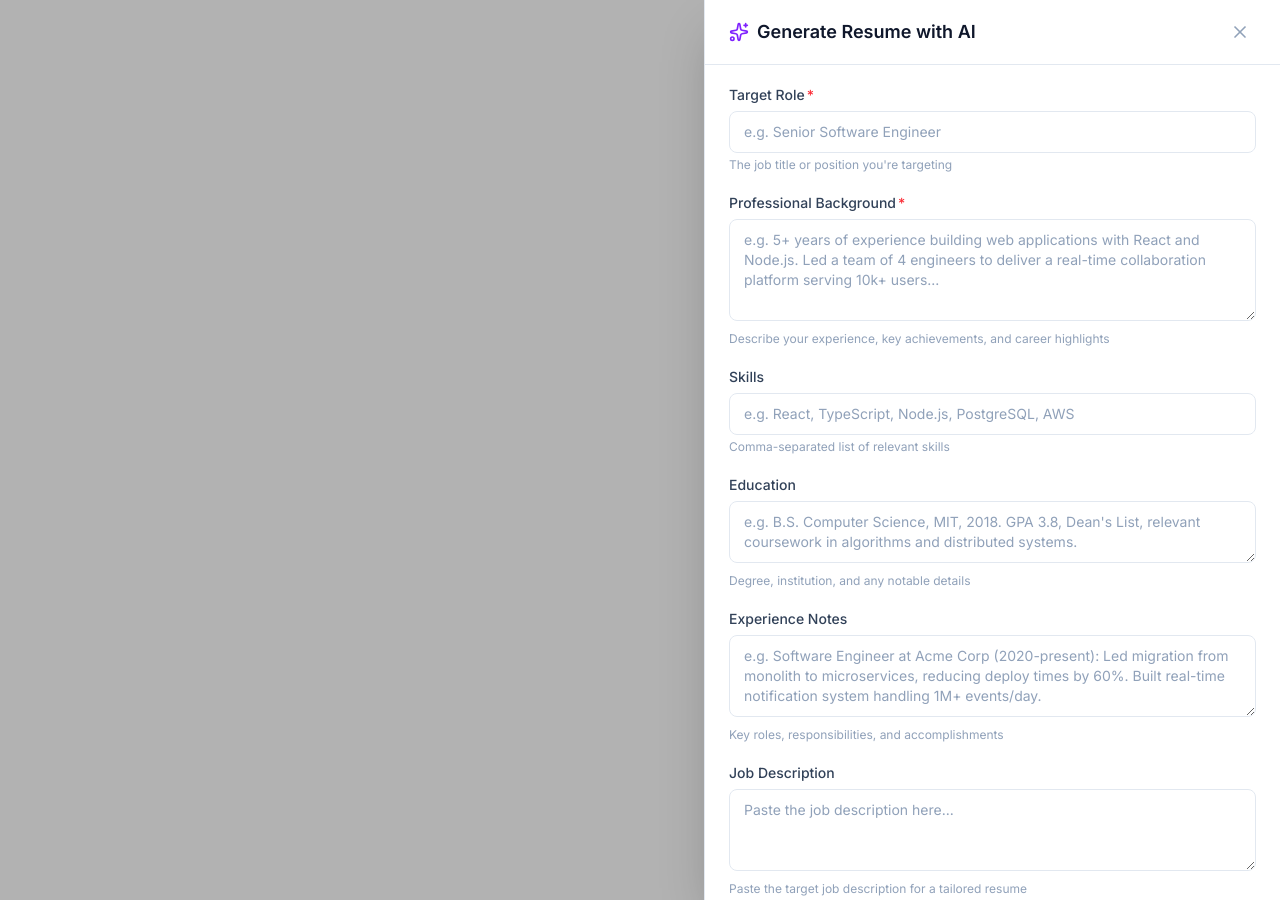
Test: Existing mode — confirmation dialog › opens confirmation when clicking Apply to Builder
This screenshot has width=1280, height=900.
Type "Engineer" into the field labelled "Target Role*" at x=992, y=132, box [729,111,1256,153]
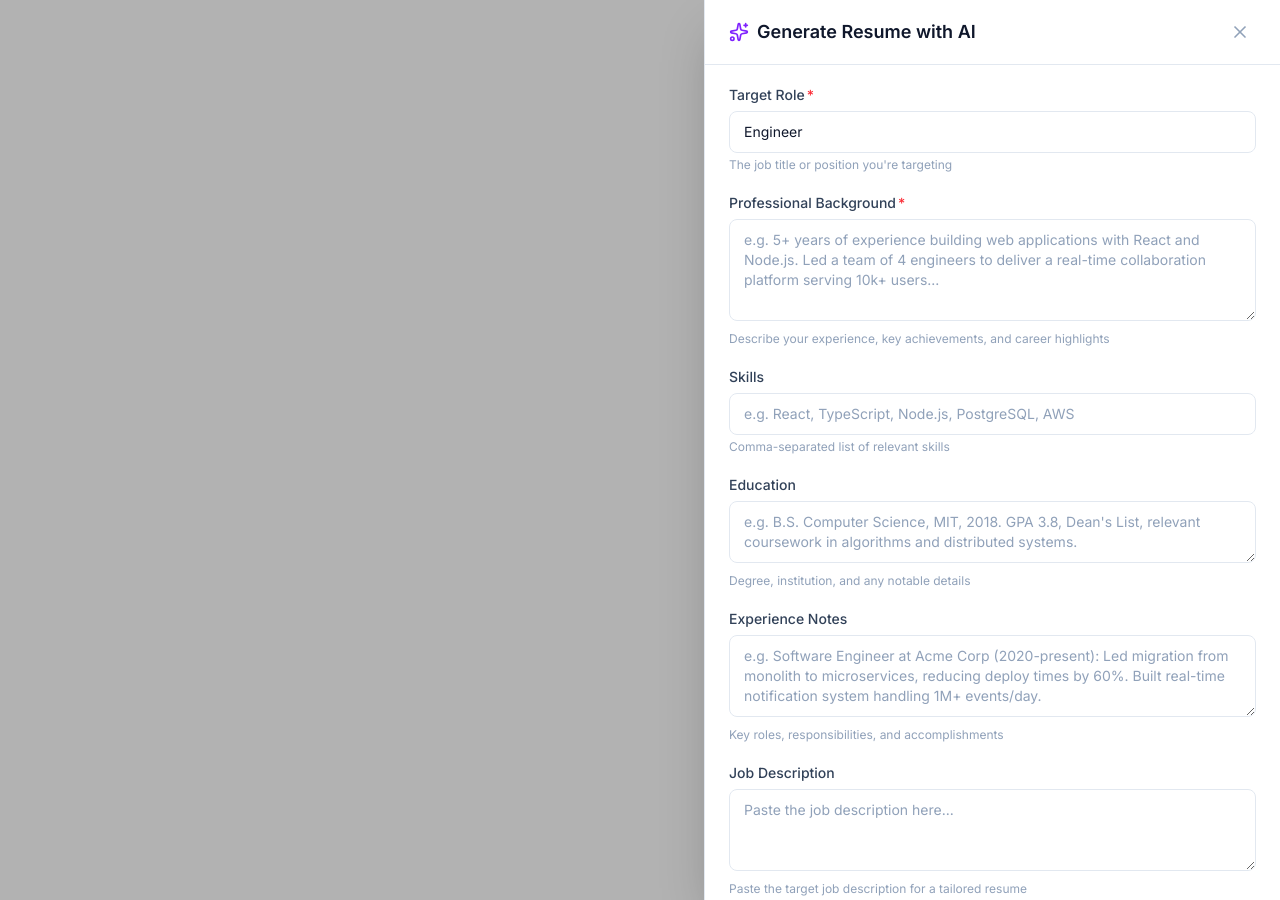
Replace the text in the text box labelled "Professional Background*" with "Experience" at x=992, y=270, box [729,219,1256,321]
(page scrolled)
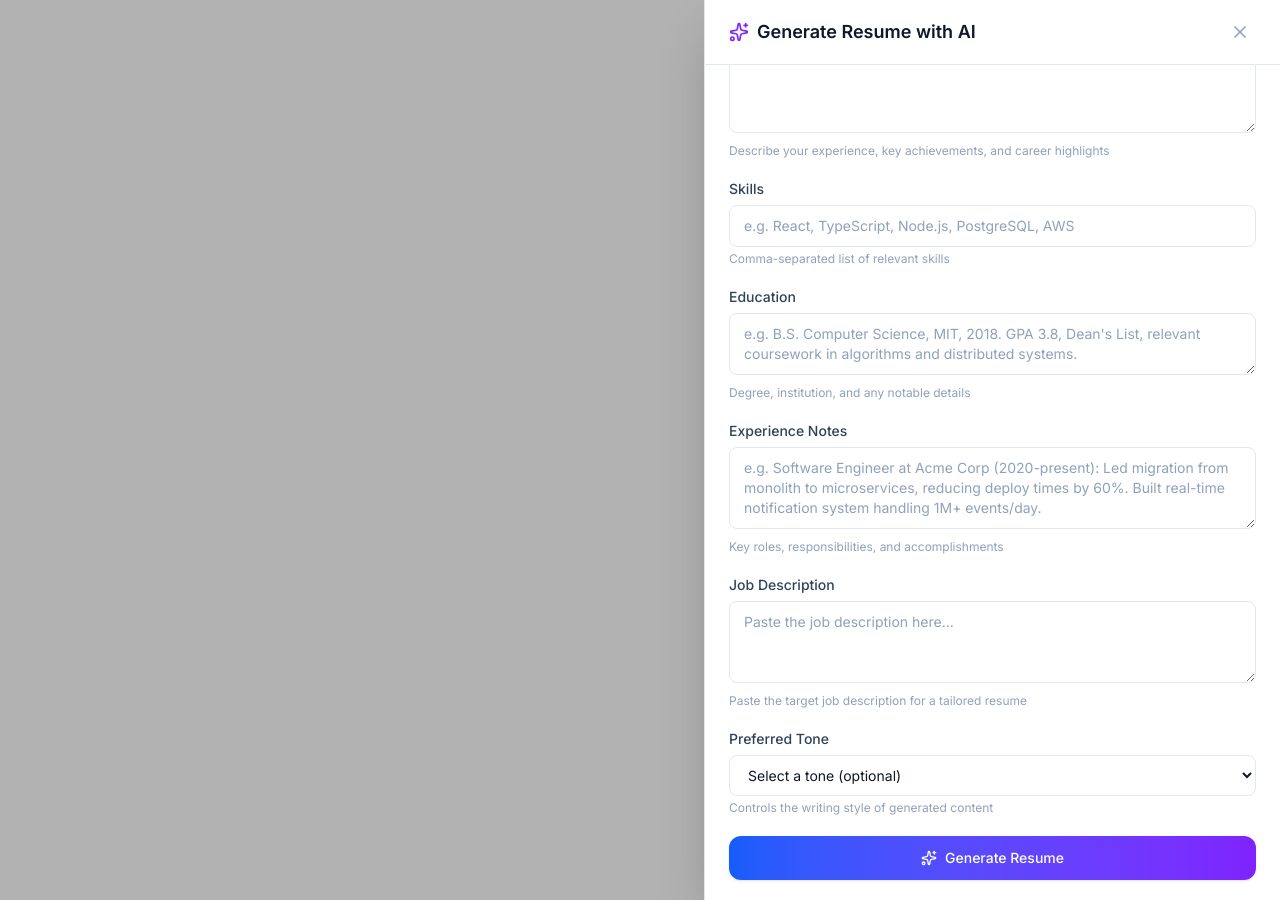
Click the button "Generate Resume" at x=992, y=858, box [729,836,1256,880]
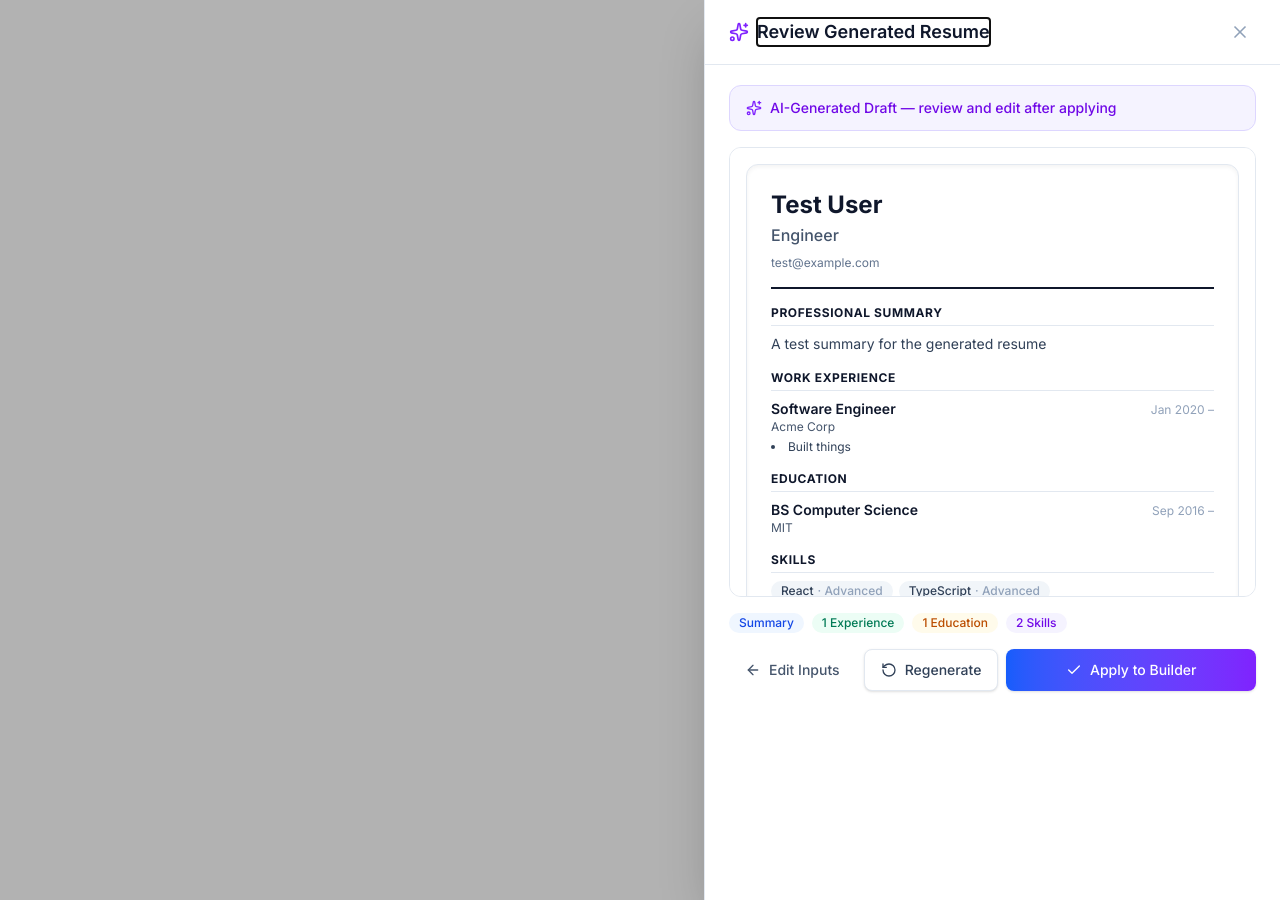
Expected: the text "AI-Generated Draft — review and edit after applying" is shown, [770,98,1116,118]
Click the button "Apply to Builder" at x=1131, y=670, box [1006,649,1256,691]
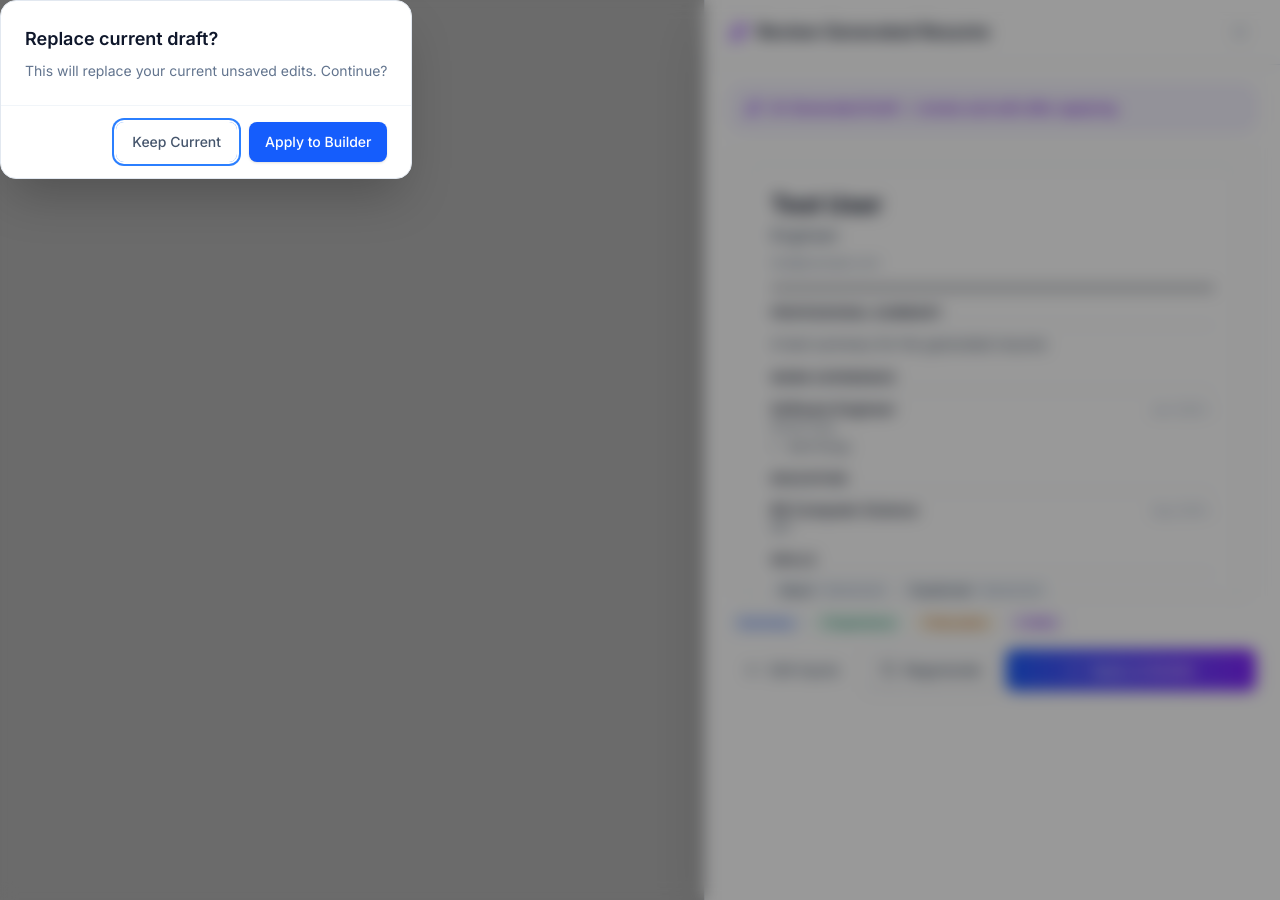
Expected: the heading "Replace current draft?" is shown, [25,28,218,49]
Expected: the text "This will replace your current unsaved edits. Continue?" is shown, [25,61,388,81]
